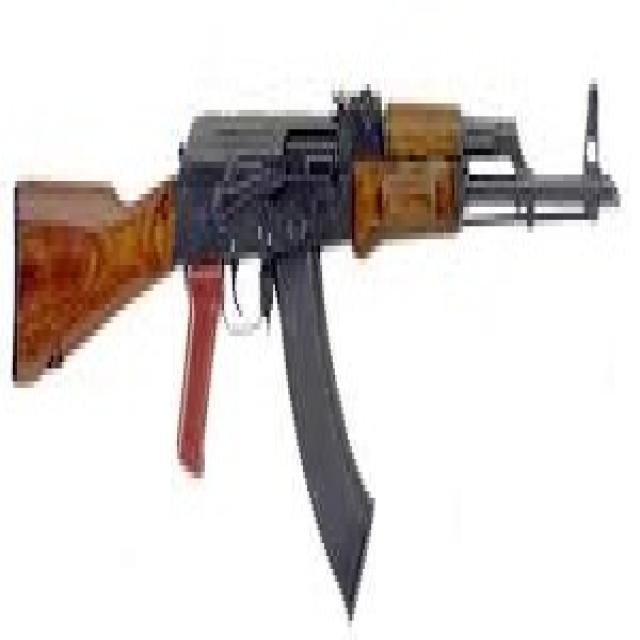rifle: (2, 74, 624, 640)
